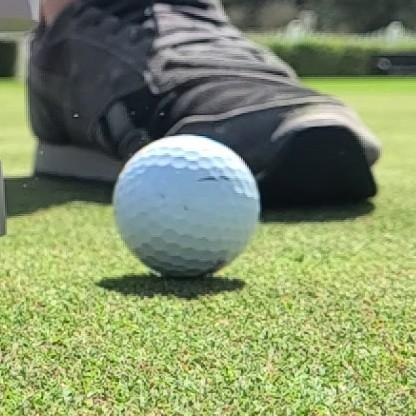golfball: (113, 135, 259, 276)
